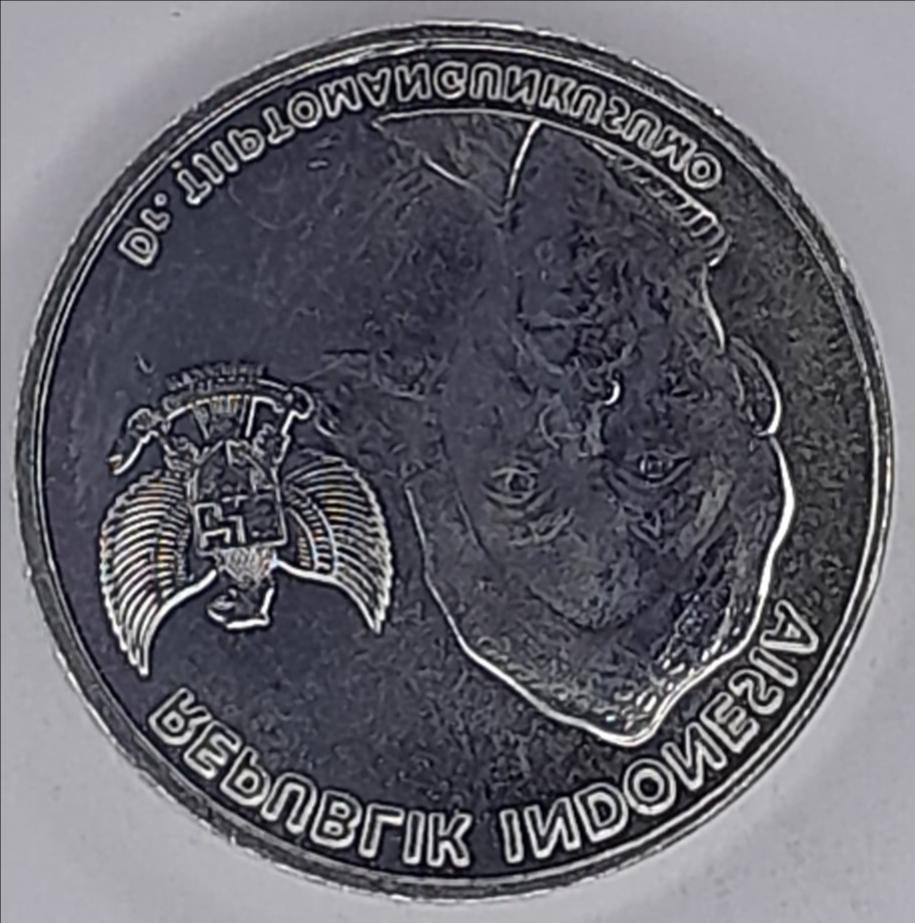coin_200_e2016: (0, 16, 915, 923)
